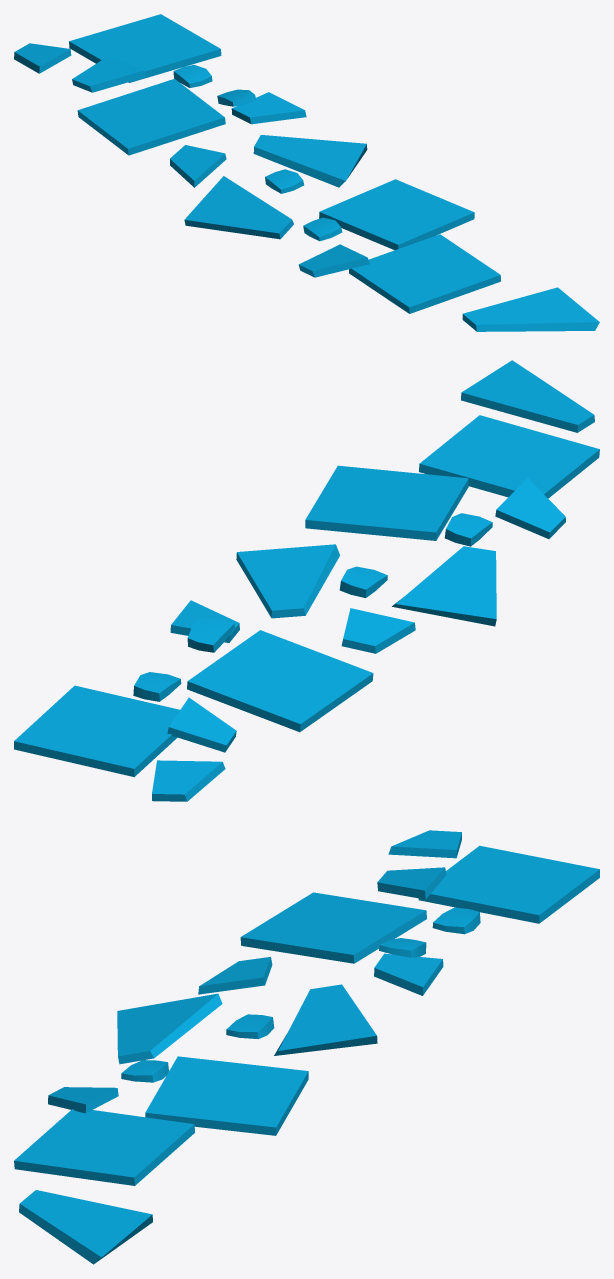
The model's file is Debris_Tile_03B.fbx.
3 views of the same model, one above another, from view 1: azimuth 30°, elevation 25°; view 2: azimuth 150°, elevation 25°; view 3: azimuth 330°, elevation 25° (orthographic). The views are drawn at different scales.
Parts seen in each view (by area): view 1: Debris_Tile_03B; view 2: Debris_Tile_03B; view 3: Debris_Tile_03B.
Part boxes in pixels (box(x1,y1,x2,y2)): Debris_Tile_03B: box(14, 14, 599, 331); Debris_Tile_03B: box(14, 360, 599, 801); Debris_Tile_03B: box(14, 830, 599, 1264).
Bounding box in the file's own units: 72.18 × 10.52 × 258.
